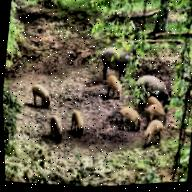boar: (134, 60, 179, 103), (109, 99, 146, 138), (27, 71, 62, 108), (99, 40, 133, 73), (66, 107, 95, 143), (45, 111, 68, 147), (99, 64, 125, 94), (146, 99, 171, 126), (146, 120, 166, 148), (149, 93, 170, 111)
